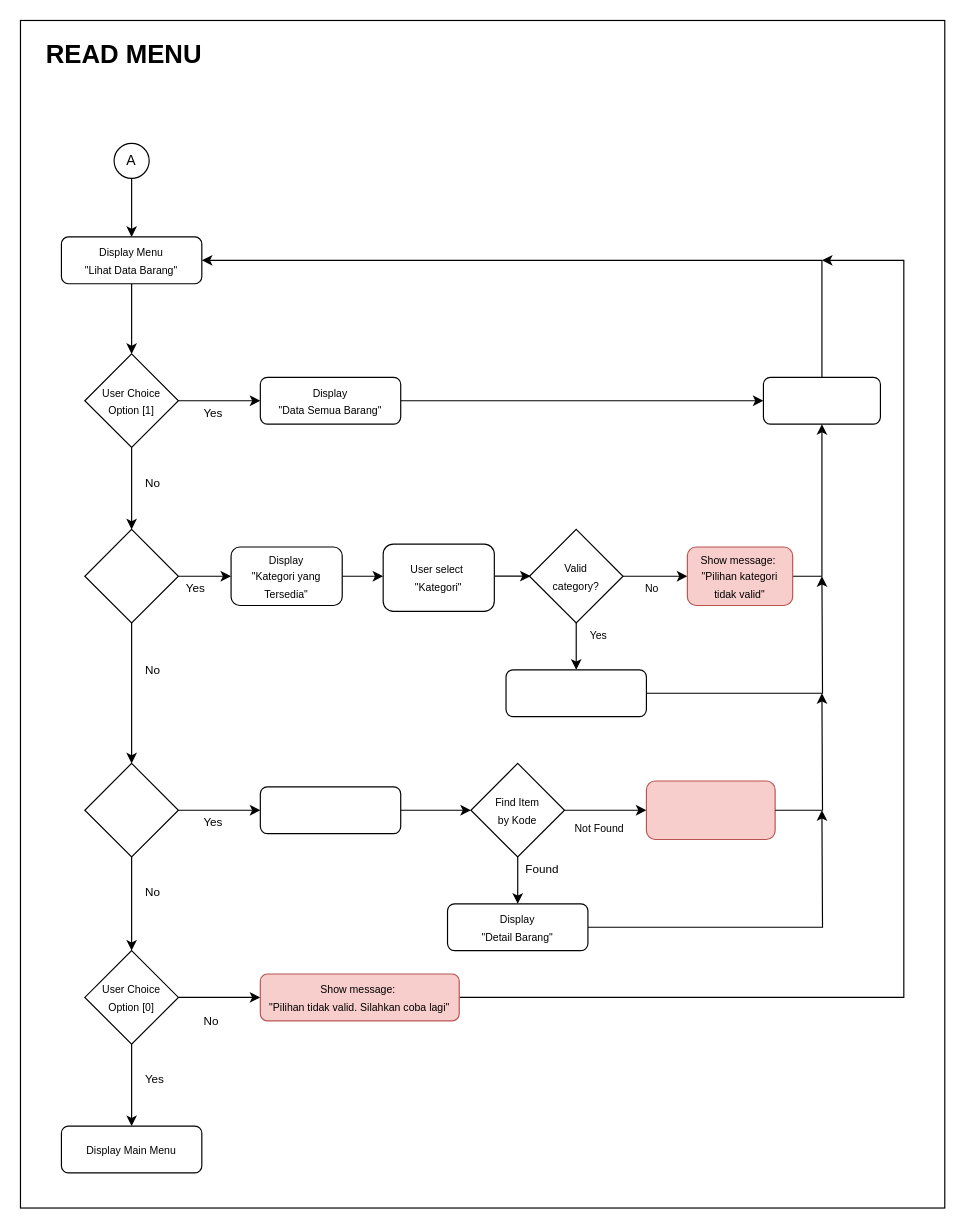
The diagram is 965 pixels wide and 1229 high, and some of its shapes have lost their labels. The centre of each missing label's shape, as x and y in pixels:
Display "Daftar Barang Kategori": point 575,693
Input "Kode Barang": point 330,810
Show message: "Barang dengan kode tersebut tidak ditemukan.": point 710,809
User Choice Option [2]: point 131,575
User Choice Option [3]: point 131,809
Wait for press Enter: point 821,400
